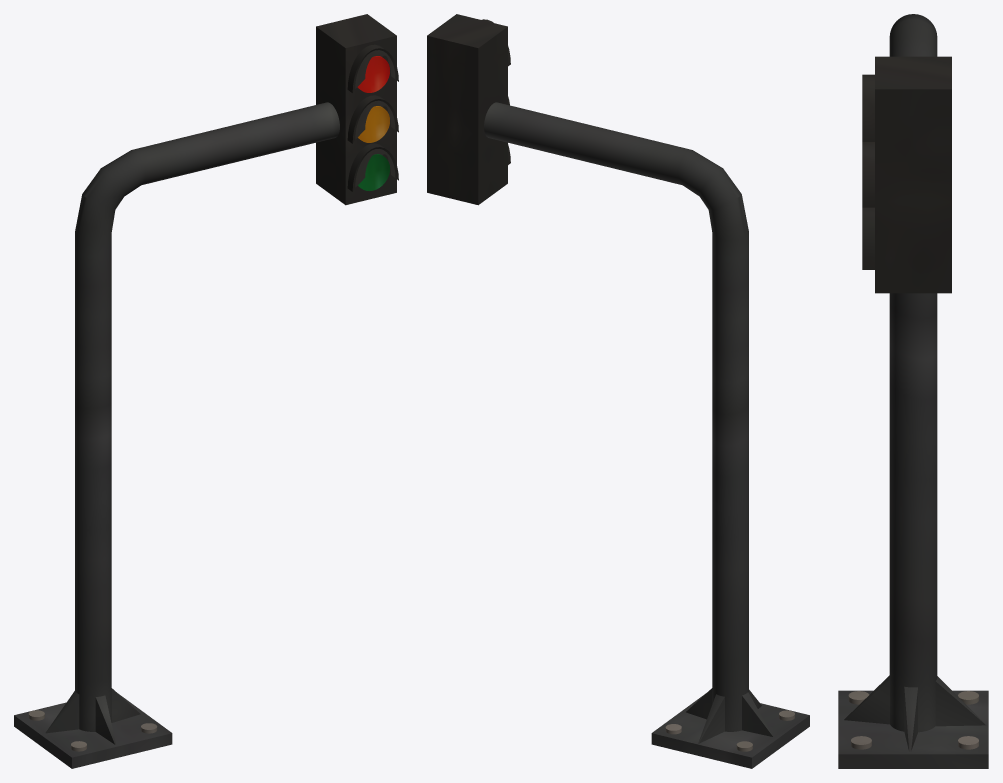
The model's file is trafik lambası uzun.fbx.
3 views of the same model, side by side, from view 1: azimuth 30°, elevation 25°; view 2: azimuth 150°, elevation 25°; view 3: azimuth 270°, elevation 25° (orthographic). The views are drawn at different scales.
Visible parts, largest first — view 1: Plane; view 2: Plane; view 3: Plane.
Boxes of the visible parts, bbox=[...] form: Plane: bbox=[14, 14, 398, 768]; Plane: bbox=[427, 14, 809, 768]; Plane: bbox=[838, 14, 988, 768].
Size of the model in its own units: 326 by 588 by 96.46.
1 material, 1 textured.
